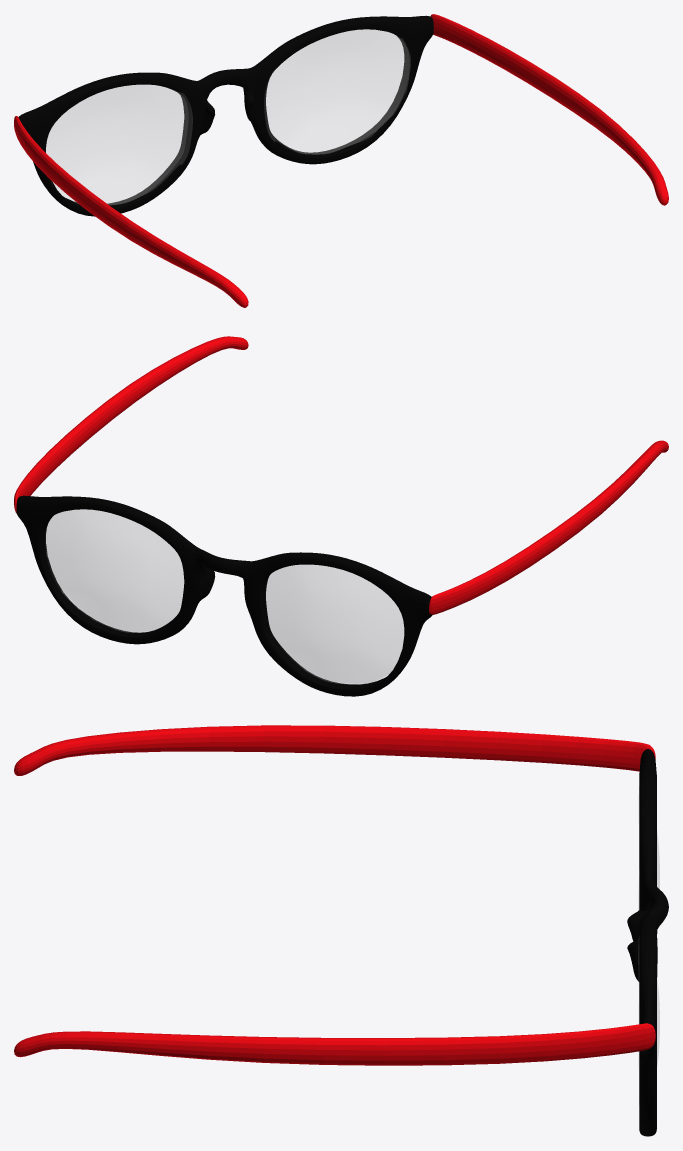
The model's file is rednblack.glb.
The picture shows the model from 3 angles, top to bottom: view 1: azimuth 30°, elevation 25°; view 2: azimuth 150°, elevation 25°; view 3: azimuth 270°, elevation 25°; orthographic projection. The views are drawn at different scales.
Parts seen in each view (by area): view 1: lenses, frame, handles.; view 2: lenses, frame, handles.; view 3: handles., frame.
Boxes of the visible parts, left/top/right/bottom form: lenses: left=46, top=29, right=410, bottom=204; frame: left=18, top=15, right=433, bottom=216; handles.: left=14, top=14, right=668, bottom=307; lenses: left=45, top=509, right=403, bottom=684; frame: left=16, top=495, right=432, bottom=696; handles.: left=14, top=336, right=668, bottom=614; handles.: left=14, top=725, right=655, bottom=1065; frame: left=627, top=749, right=668, bottom=1136.
Bounding box in the file's own units: 4.01 × 1.1 × 3.48.
